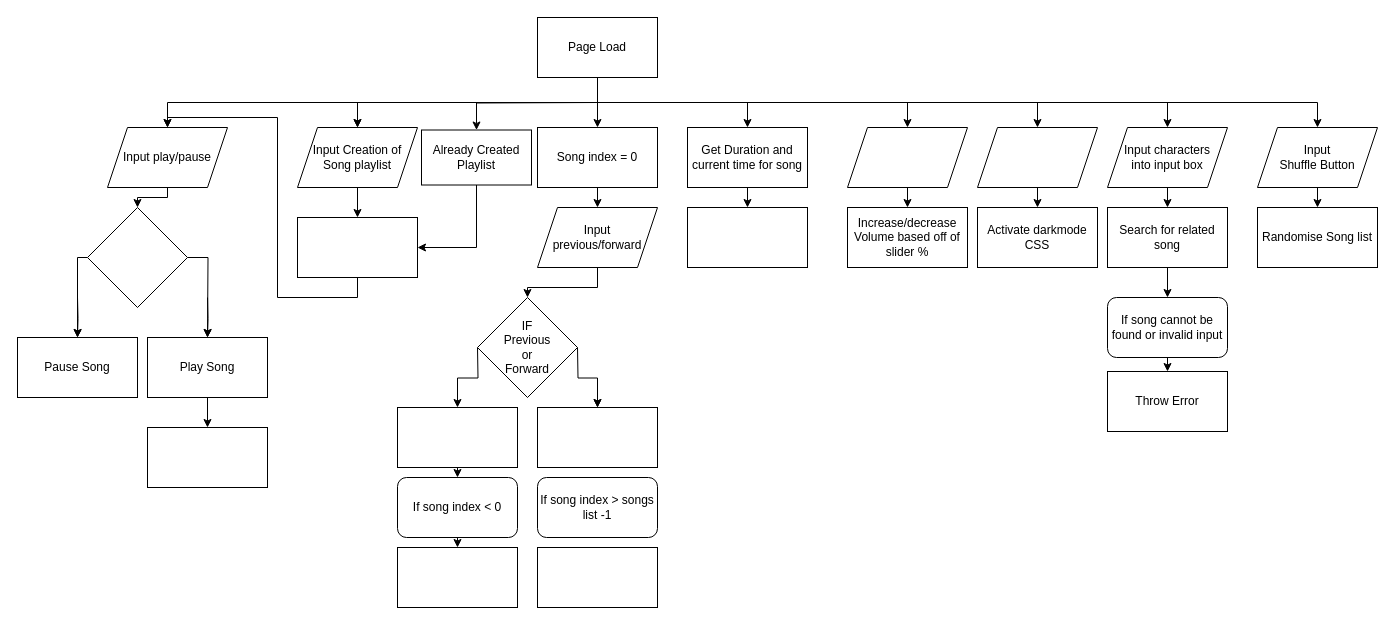
The diagram is 1395 pixels wide and 625 high, and some of its shapes have lost their labels. Each missing label, with the centre of its shape:
Current time + Duration = song length: (x=747, y=237)
Display Song playlist: (x=357, y=247)
IF Play or Pause: (x=137, y=257)
Input volume Slider: (x=907, y=157)
No input for 30 seconds (mouse movment, mouse click key press): (x=1037, y=157)
Song index ++ 1 load song: (x=597, y=437)
Song index -- 1 load song: (x=457, y=437)
Song index = 0 load song: (x=597, y=577)
Song index = songs list -1 load song: (x=457, y=577)
Start Vinyl spin animation: (x=207, y=457)
